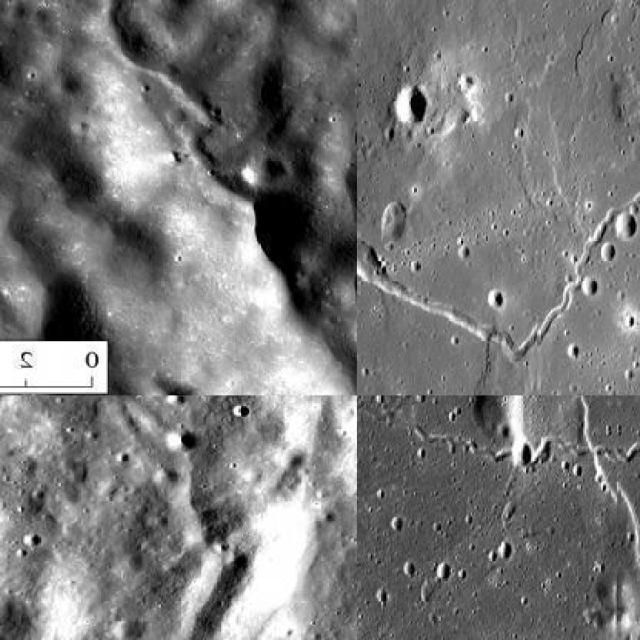rille: (357, 0, 638, 365), (83, 0, 282, 251), (92, 396, 246, 638), (412, 396, 638, 472)
